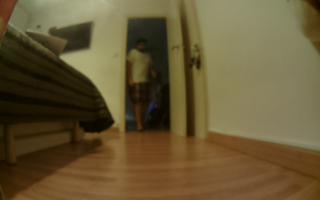person: (127, 35, 162, 134)
